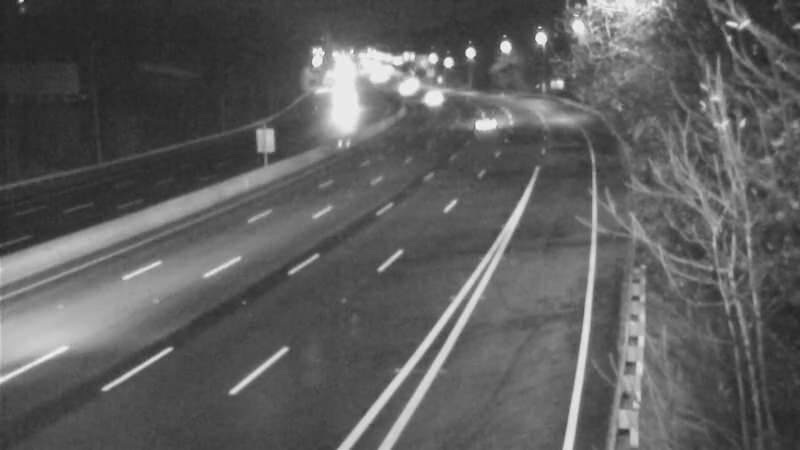vehicle: (405, 69, 455, 119), (461, 100, 511, 150)
